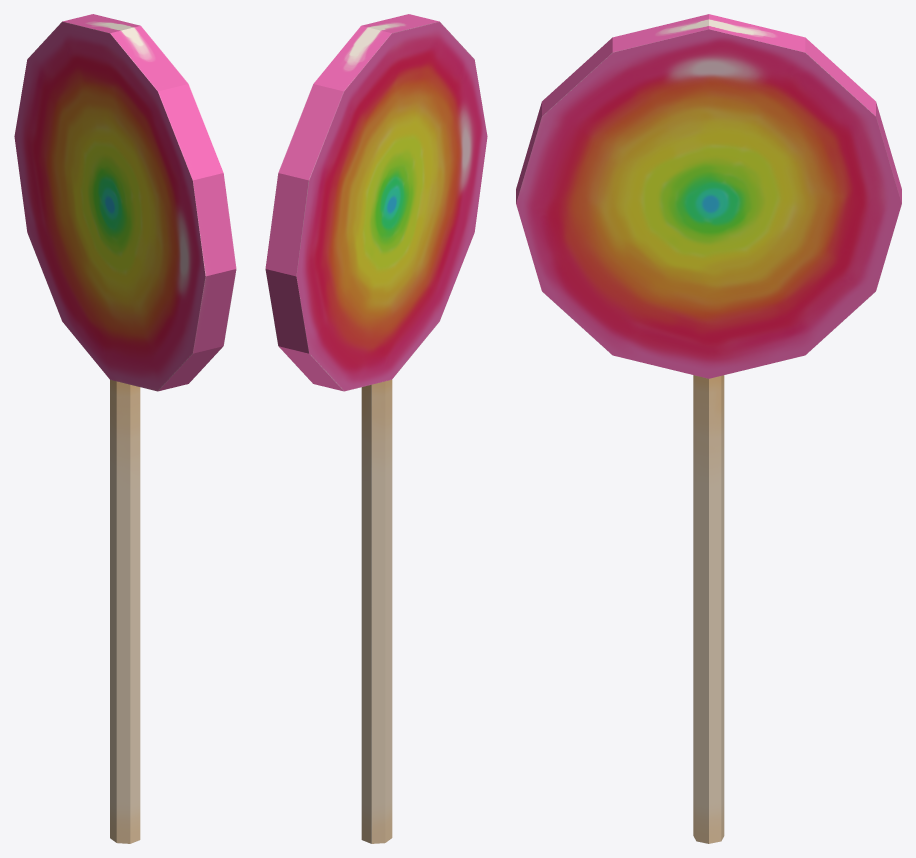
The model's file is lolly .fbx.
3 views of the same model, side by side, from view 1: azimuth 30°, elevation 25°; view 2: azimuth 150°, elevation 25°; view 3: azimuth 270°, elevation 25° (orthographic).
Visible parts, largest first — view 1: pCylinder3; view 2: pCylinder3; view 3: pCylinder3.
Boxes of the visible parts, left/top/right/bottom form: pCylinder3: left=14, top=14, right=236, bottom=843; pCylinder3: left=265, top=14, right=487, bottom=843; pCylinder3: left=516, top=14, right=901, bottom=843.
Bounding box in the file's own units: 0.1832 × 4.57 × 1.96.
